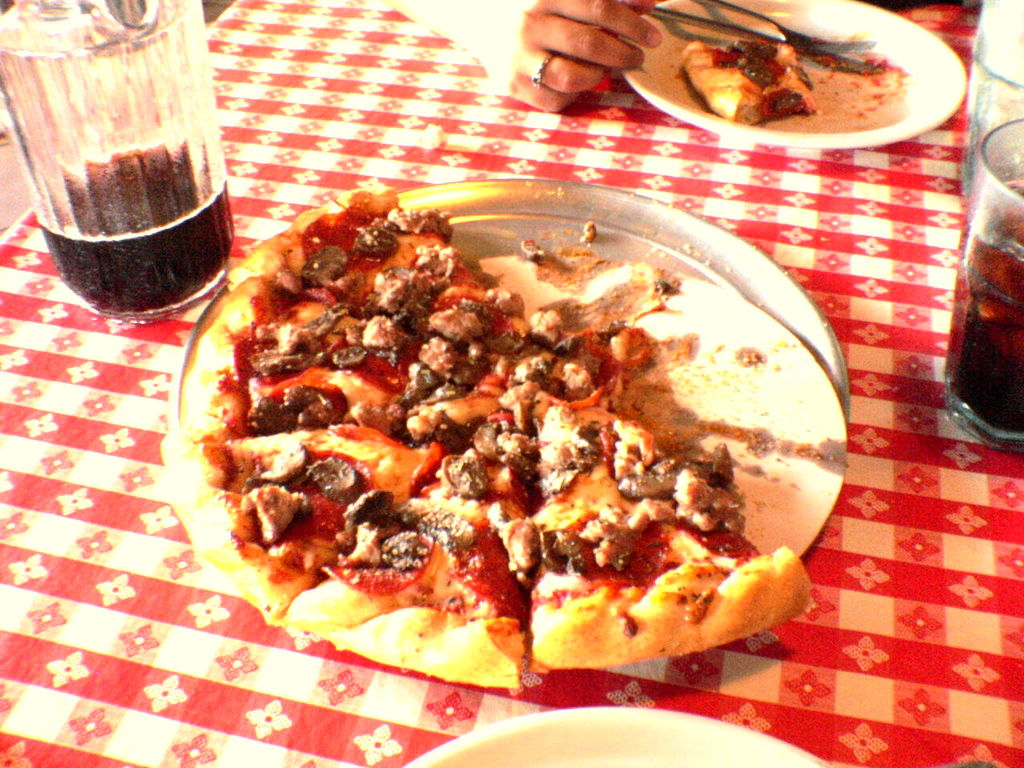Pizza: (161, 176, 812, 695), (682, 41, 819, 125)
